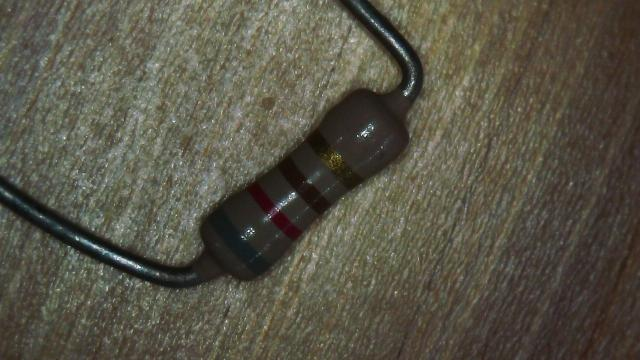brown: (276, 156, 330, 214)
gold: (307, 130, 358, 188)
grey: (204, 207, 269, 278)
red: (247, 181, 302, 240)
resistor: (154, 54, 449, 315)
